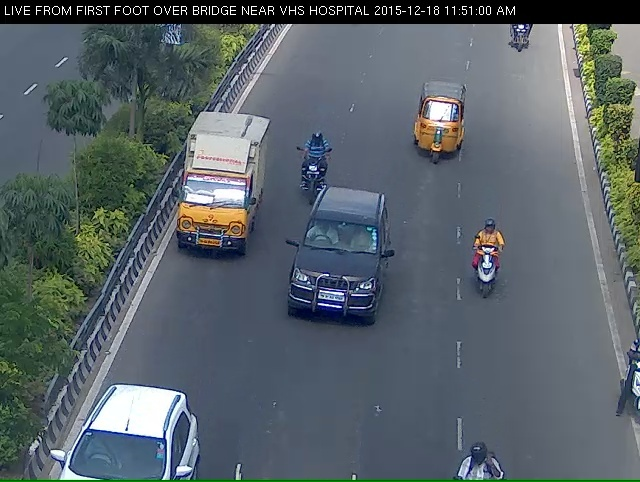Auto: (174, 121, 250, 264), (414, 94, 465, 173)
Car: (288, 210, 382, 344), (51, 425, 187, 480)
Person: (295, 145, 323, 215), (480, 236, 503, 319)
